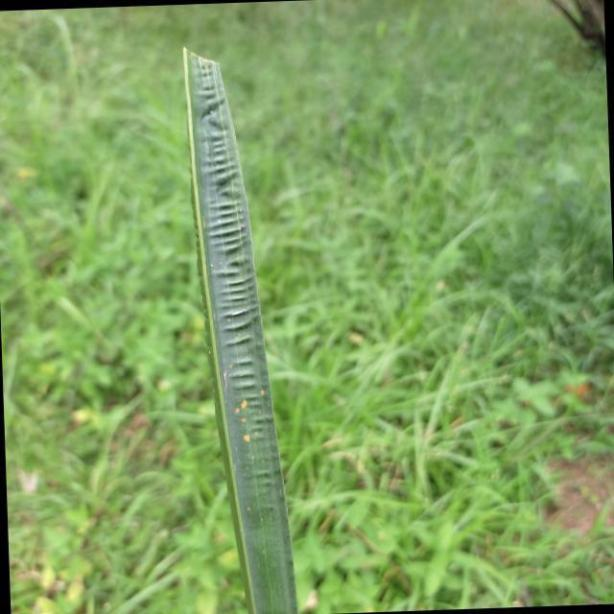Boron: (173, 40, 297, 614)
